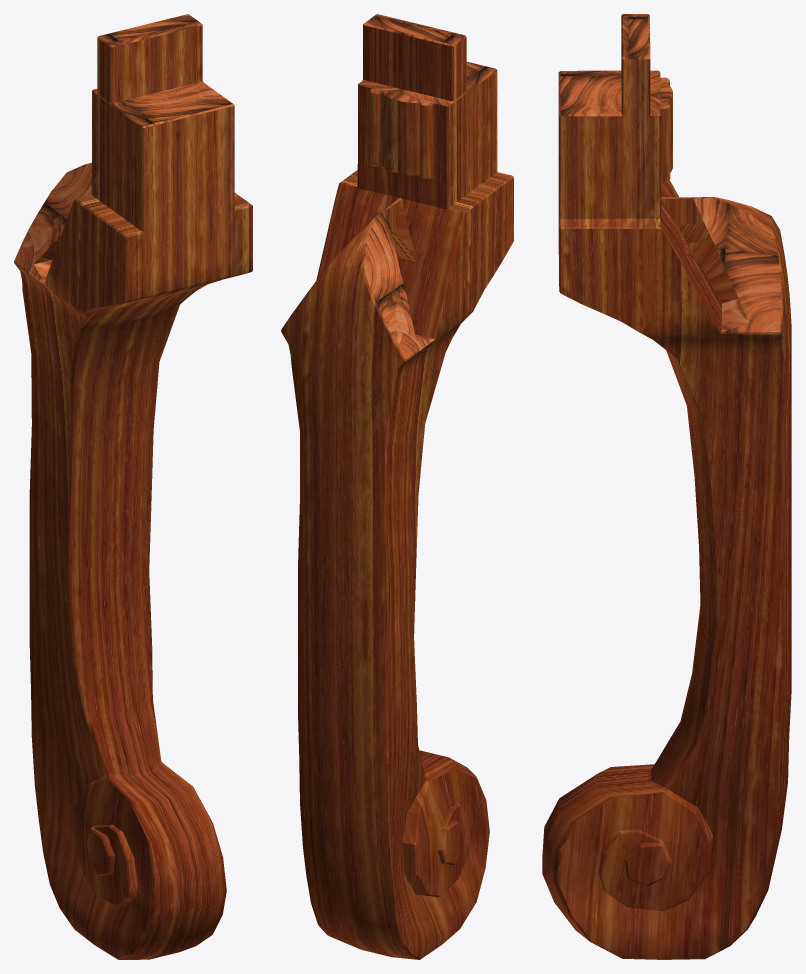
Rendered from yuandeng_J_D_tui_03.FBX.
3 views of the same model, side by side, from view 1: azimuth 30°, elevation 25°; view 2: azimuth 150°, elevation 25°; view 3: azimuth 270°, elevation 25° (orthographic). The views are drawn at different scales.
Visible parts, largest first — view 1: yuandeng_J_D_tui_03; view 2: yuandeng_J_D_tui_03; view 3: yuandeng_J_D_tui_03.
Part boxes in pixels (box(x1,y1,x2,y2)): yuandeng_J_D_tui_03: box(14, 14, 252, 959); yuandeng_J_D_tui_03: box(281, 14, 513, 959); yuandeng_J_D_tui_03: box(542, 14, 791, 959).
Size of the model in its own units: 5.63 by 38.3 by 9.58.
